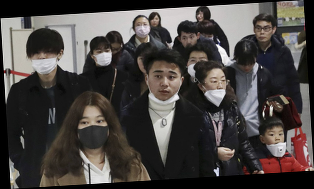mask_weared_incorrect: (146, 67, 181, 101), (203, 74, 227, 101), (264, 128, 285, 150)
with_mask: (76, 113, 112, 151), (29, 46, 59, 77), (185, 54, 209, 80), (92, 45, 113, 67), (134, 20, 151, 40)
without_mask: (253, 22, 274, 42), (179, 32, 199, 49), (237, 60, 257, 73), (109, 42, 122, 57), (149, 15, 160, 28), (195, 10, 205, 22)
